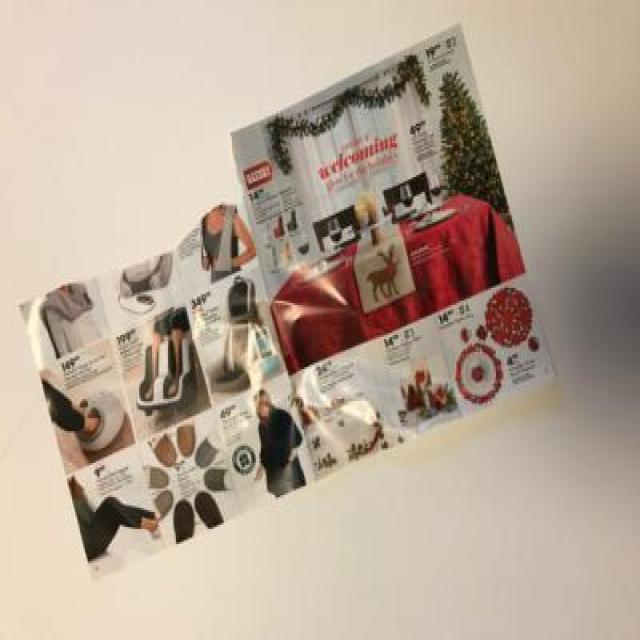paper: (41, 39, 553, 550)
